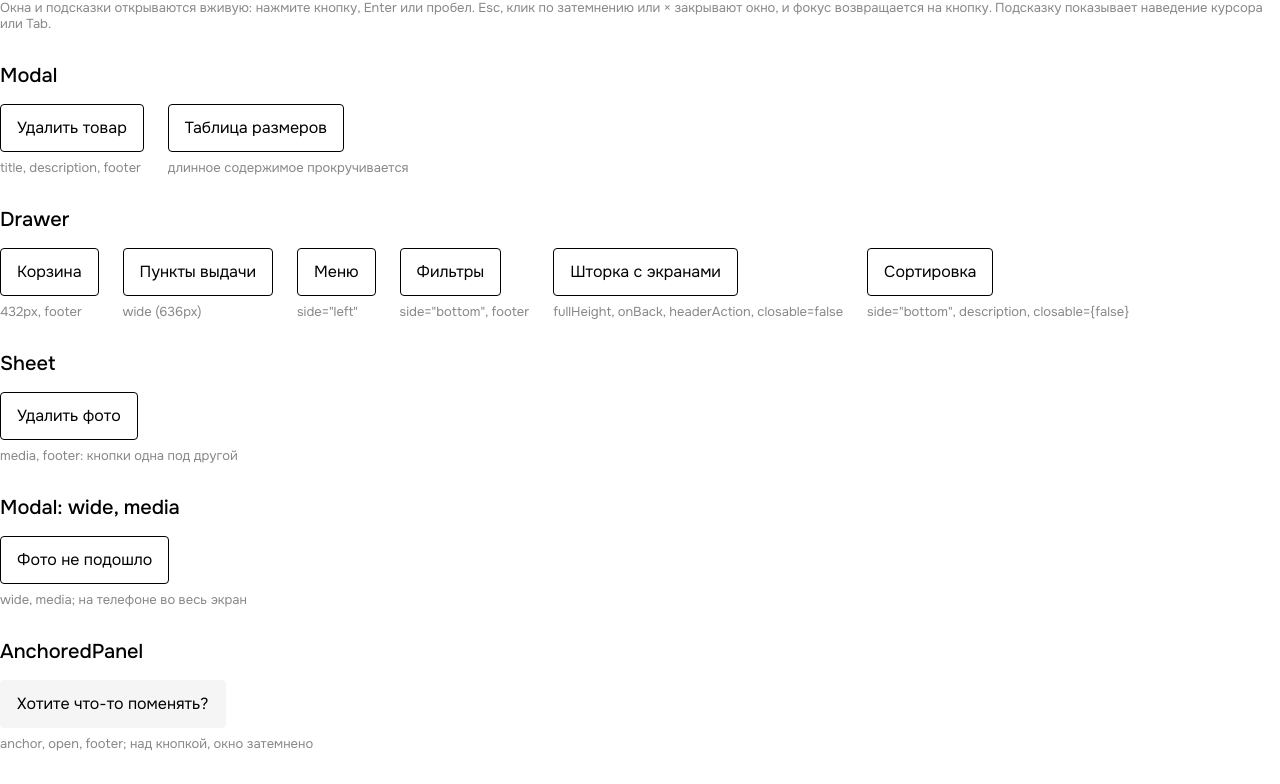
OverlaysSection › opens the anchored panel from its button and closes it with «Готово»
Click the button "Хотите что-то поменять?". click: [113, 704]
box: [0,680,226,728]
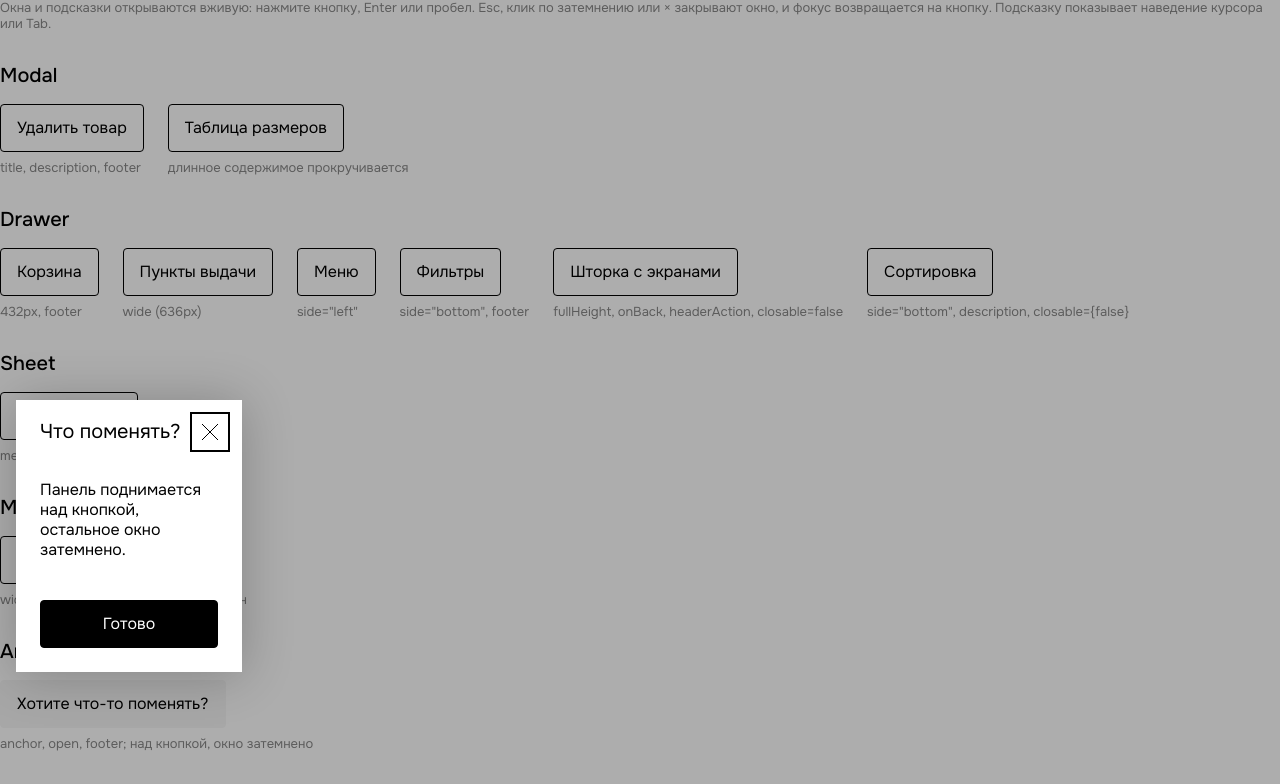
Expected: the dialog "Что поменять?" is shown, [16,400,242,672]
Click the button "Готово". click: [129, 624]
box: [40,600,218,648]
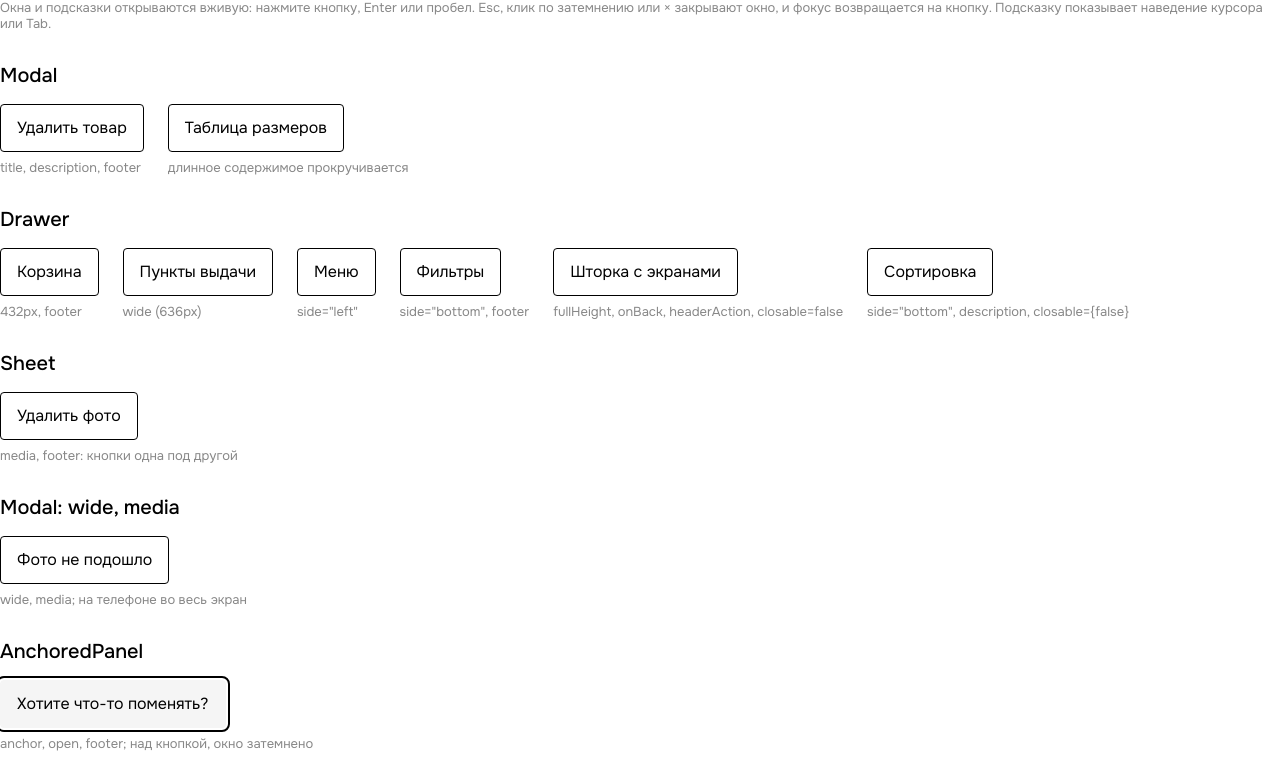
Expected: the dialog is gone
